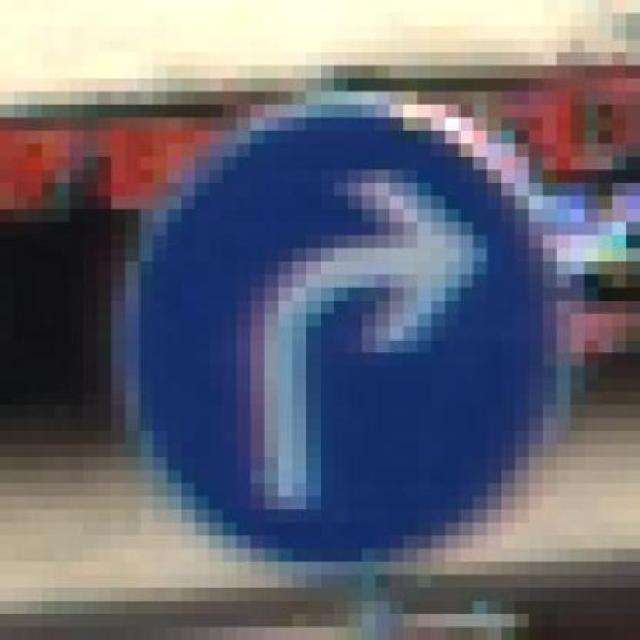Turn right ahead: (125, 97, 557, 568)
